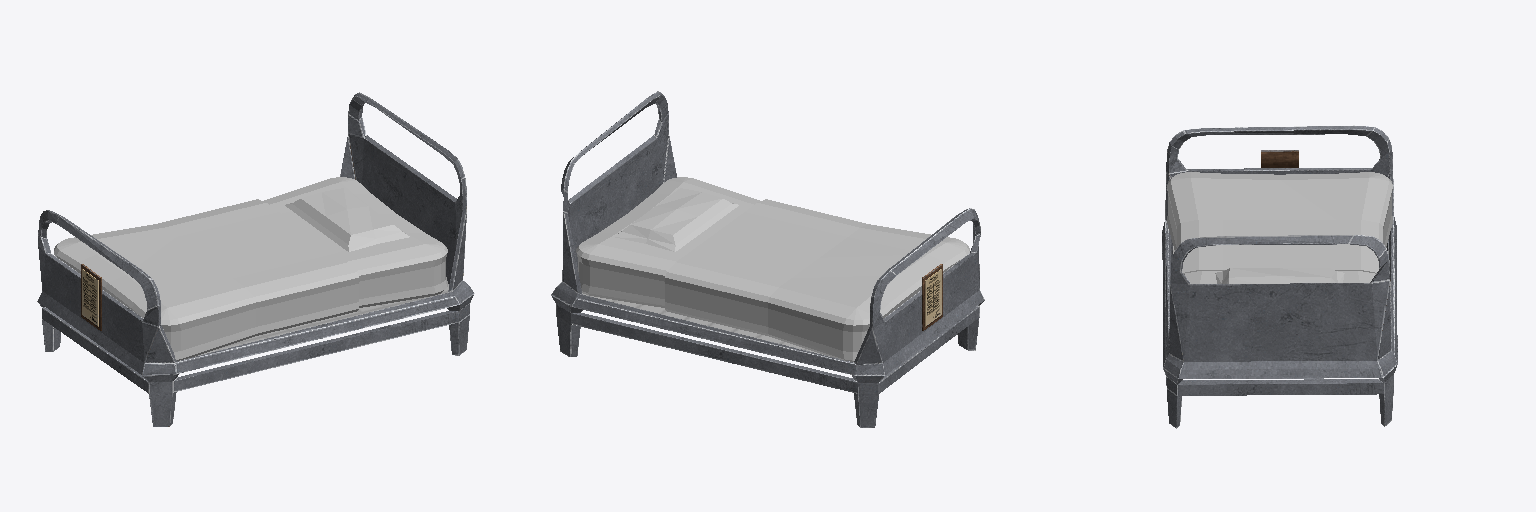
3 views of the same model, side by side, from view 1: azimuth 30°, elevation 25°; view 2: azimuth 150°, elevation 25°; view 3: azimuth 270°, elevation 25° (orthographic).
Parts seen in each view (by area): view 1: Mattress_Cube.003_Mattress.004, BedFrame_Torus.004_Bedframe.002; view 2: Mattress_Cube.003_Mattress.004, BedFrame_Torus.004_Bedframe.002; view 3: BedFrame_Torus.004_Bedframe.002, Mattress_Cube.003_Mattress.004.
Boxes of the visible parts, x1,y1,x2,y2 form: Mattress_Cube.003_Mattress.004: [54, 177, 447, 360]; BedFrame_Torus.004_Bedframe.002: [37, 92, 474, 426]; Mattress_Cube.003_Mattress.004: [576, 177, 969, 361]; BedFrame_Torus.004_Bedframe.002: [551, 91, 984, 427]; BedFrame_Torus.004_Bedframe.002: [1162, 125, 1397, 428]; Mattress_Cube.003_Mattress.004: [1167, 172, 1392, 283].
Bounding box in the file's own units: 1.7 × 0.9212 × 1.03.
2 materials, 1 textured.